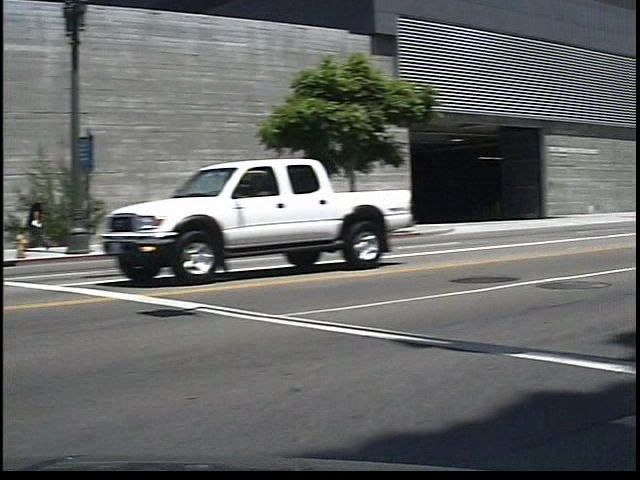car: (81, 145, 400, 271)
